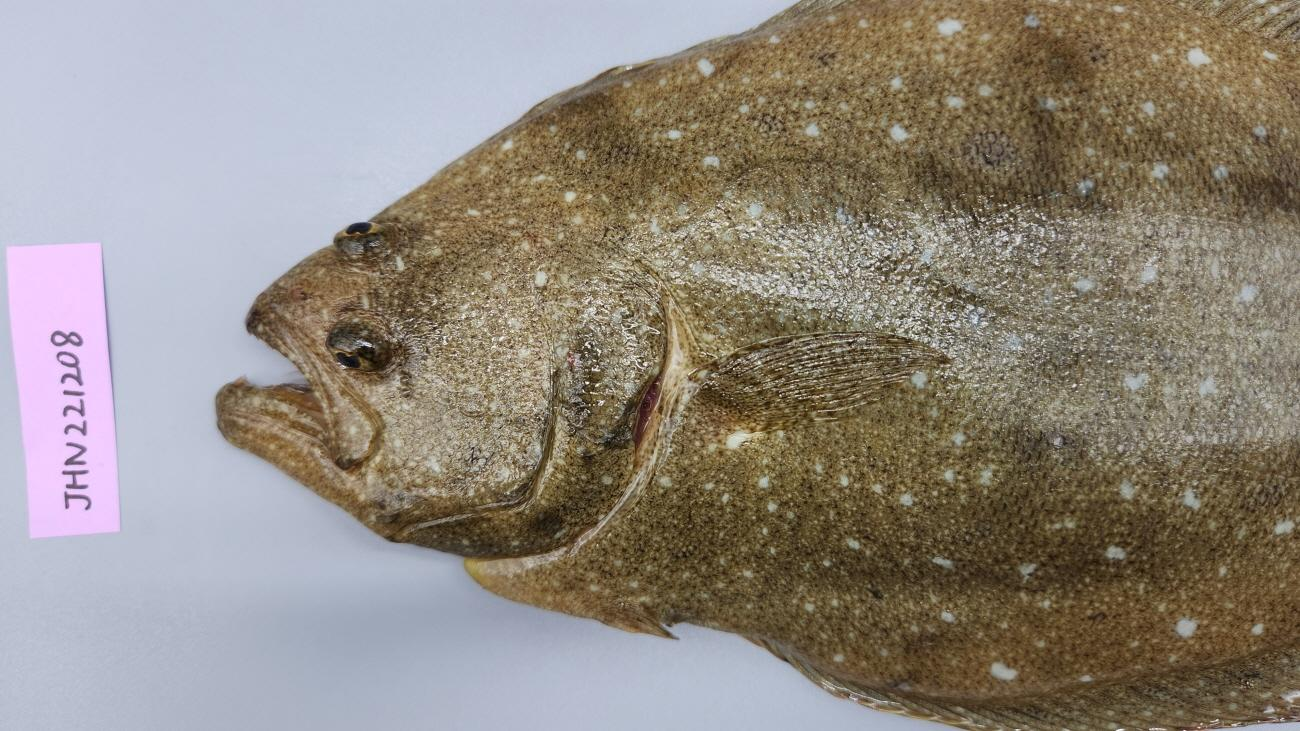POOUN: (213, 0, 1300, 731)
